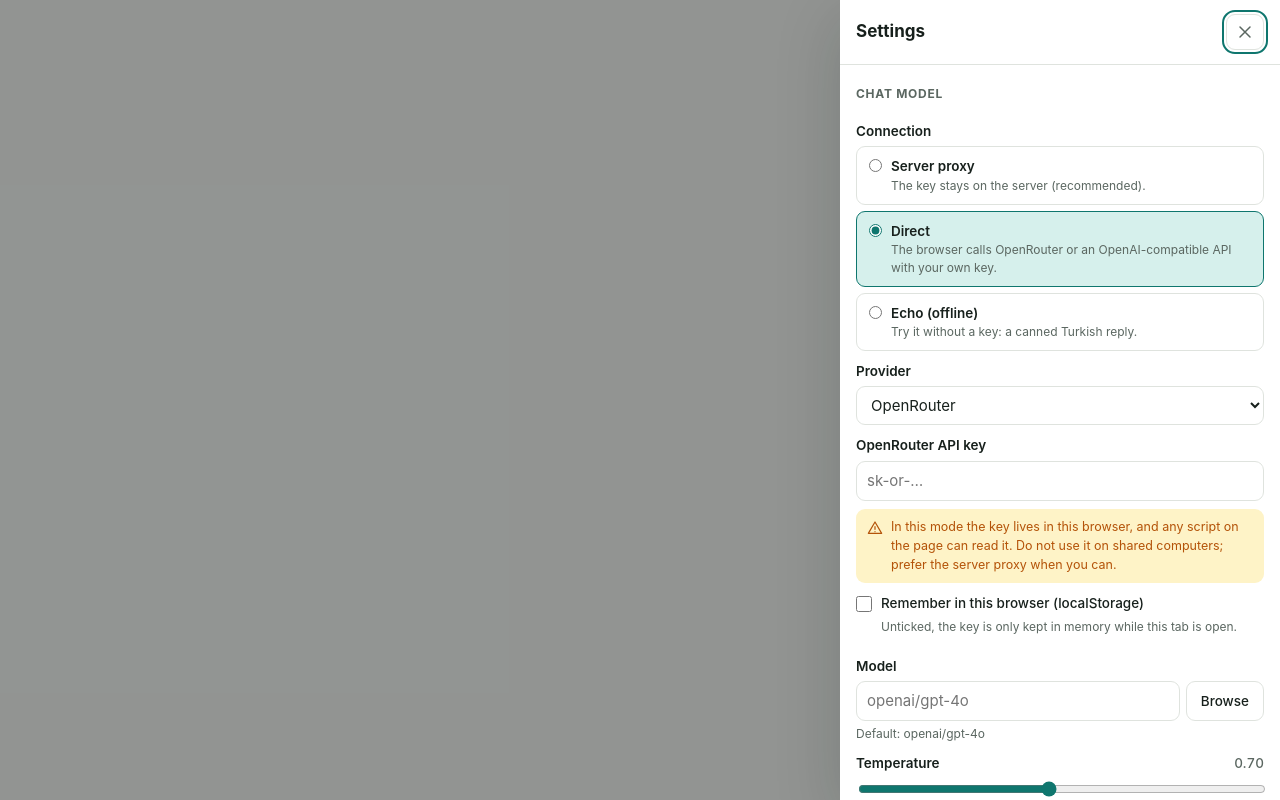
Test: <SettingsDrawer> providers › refuses an unusable URL, and cancelling adds nothing
Select "+ Add an OpenAI-compatible API…" in the dropdown labelled "Provider". click: (1060, 406)
box: [856, 386, 1264, 425]
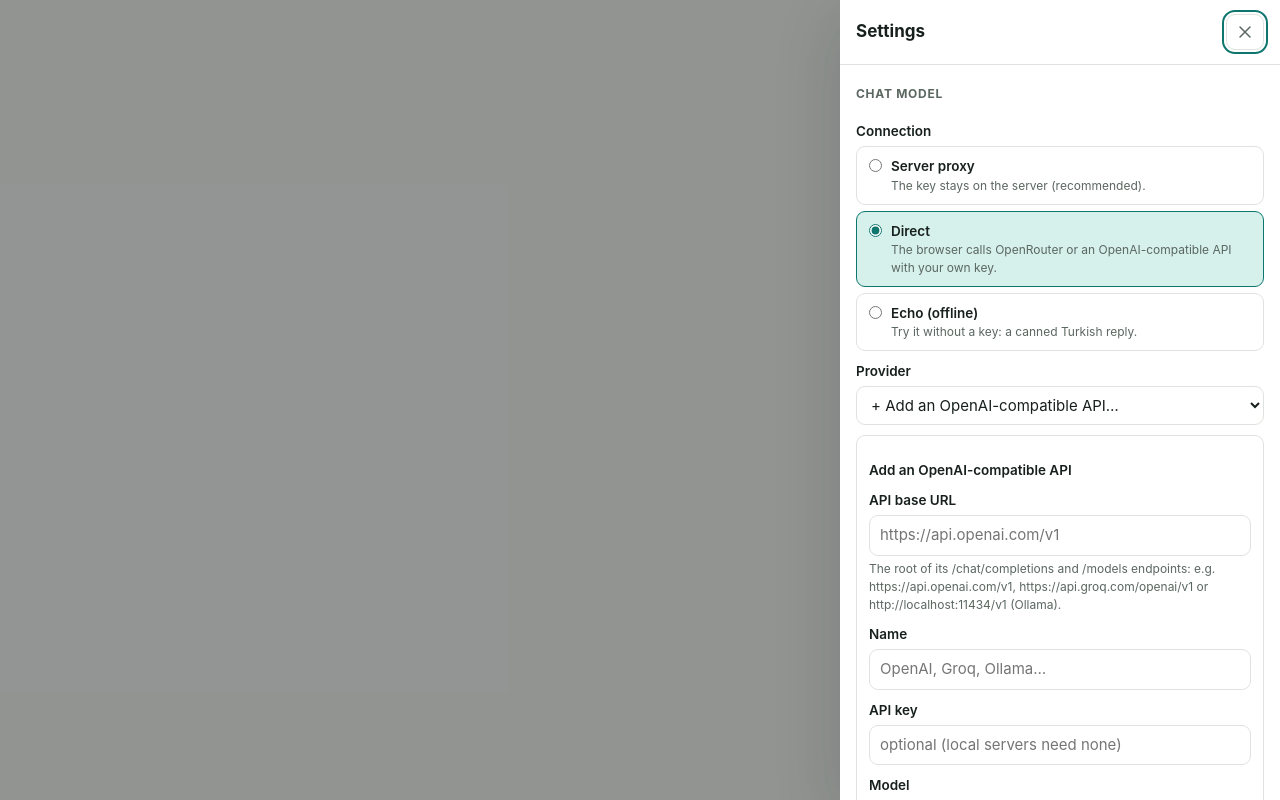
Type "ftp://nope" into the field labelled "API base URL". click: (1060, 536)
box: [869, 515, 1251, 556]
(page scrolled)
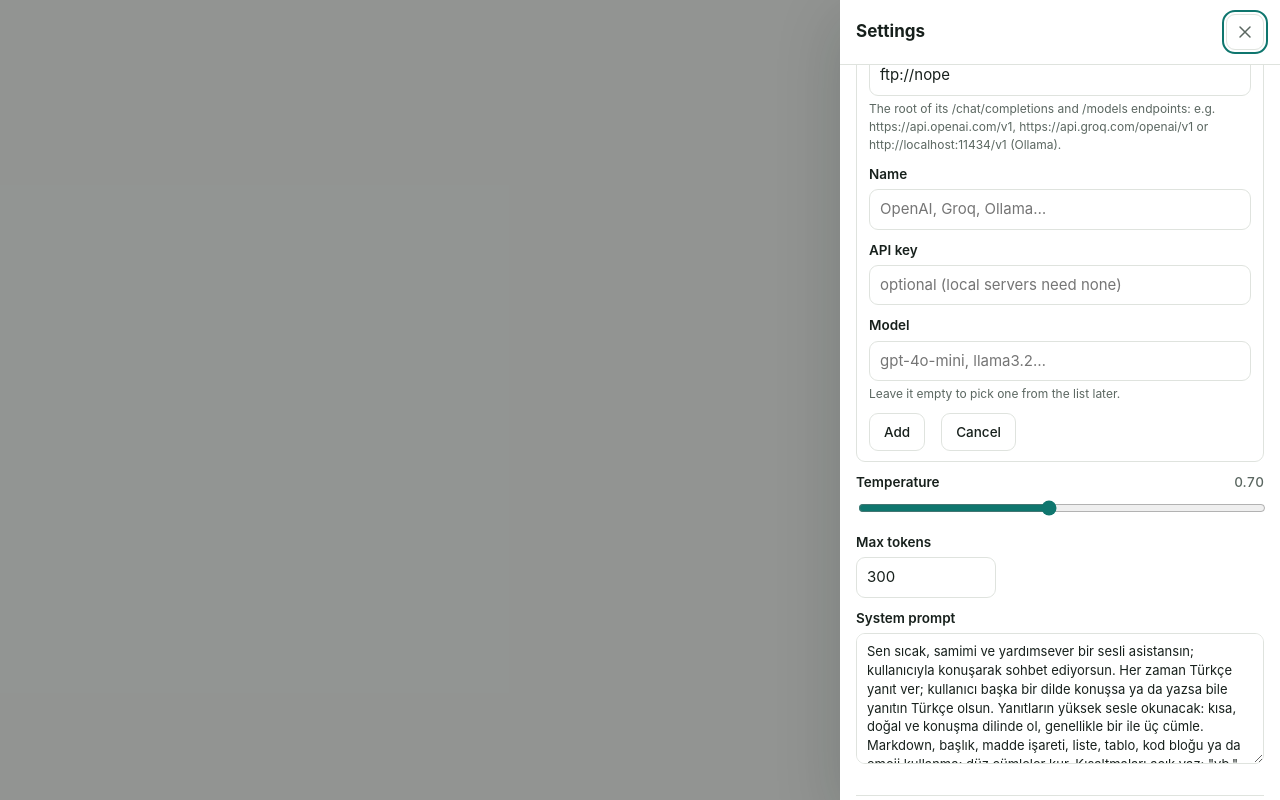
Click the button "Add". click: (897, 432)
box: [869, 413, 925, 451]
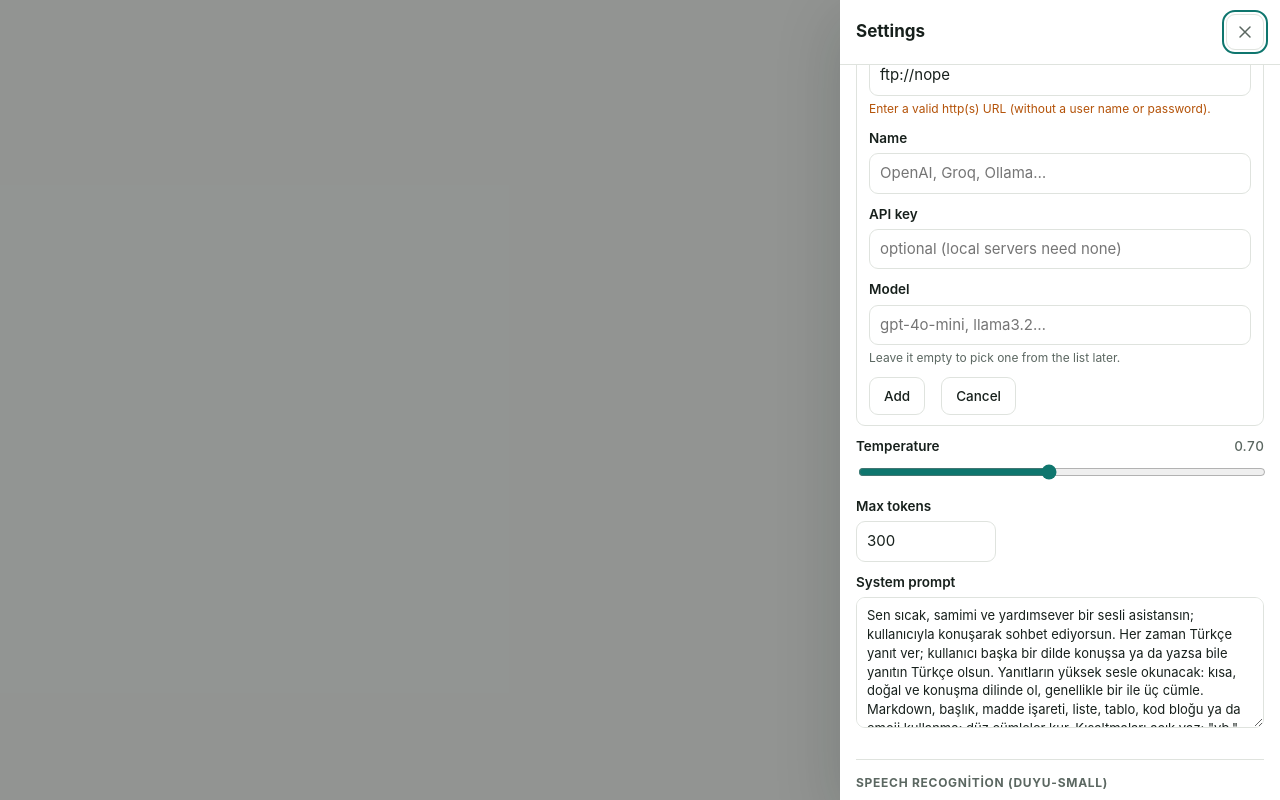
expect the text "Enter a valid http(s) URL (without a user name or password)." is shown: met, box [869, 100, 1251, 118]
Click the button "Cancel". click: (979, 396)
box: [941, 377, 1016, 415]
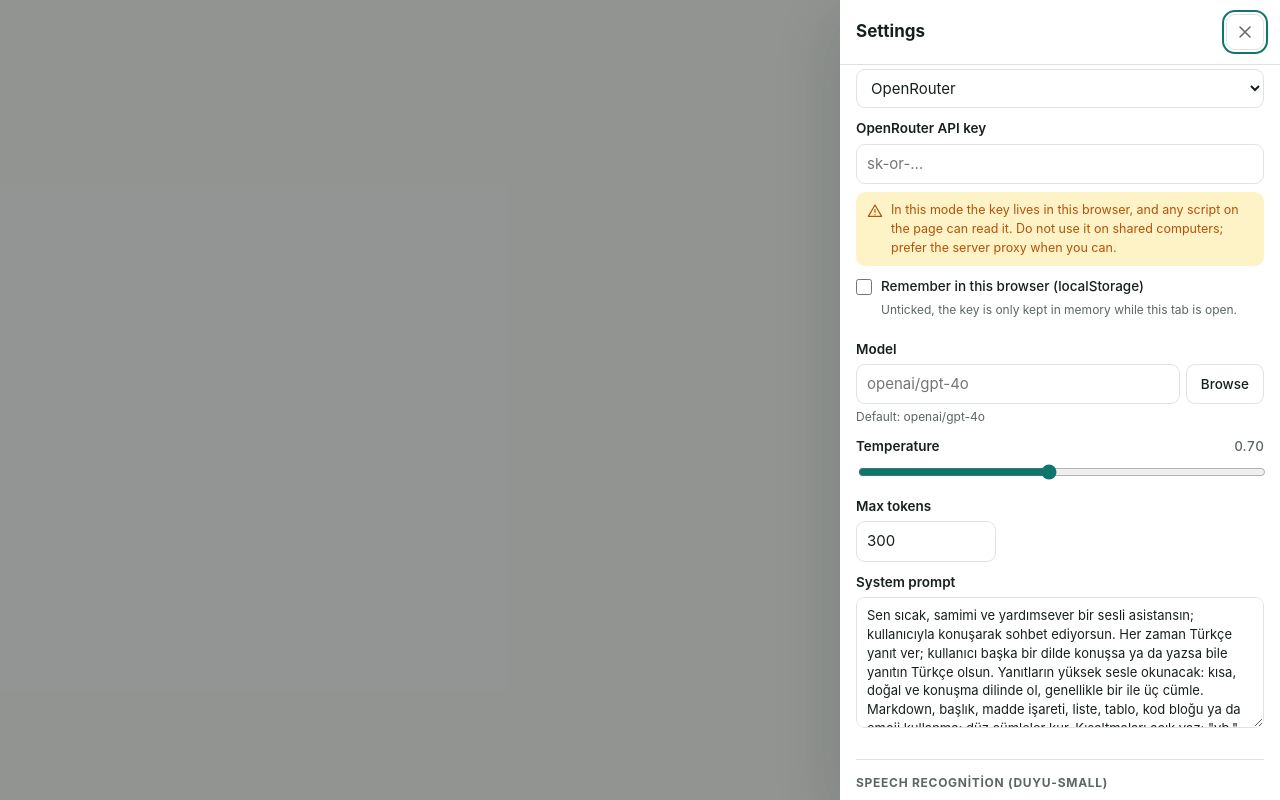
expect the field labelled "API base URL" is gone: met
